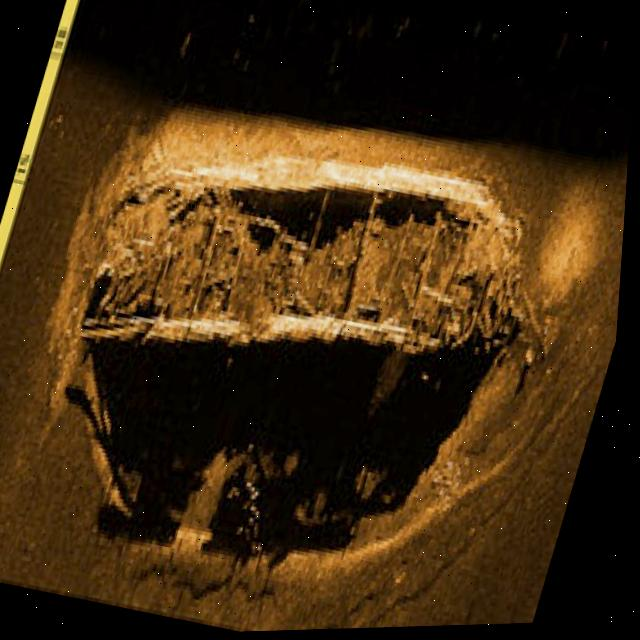shipwreck: (51, 73, 582, 454)
